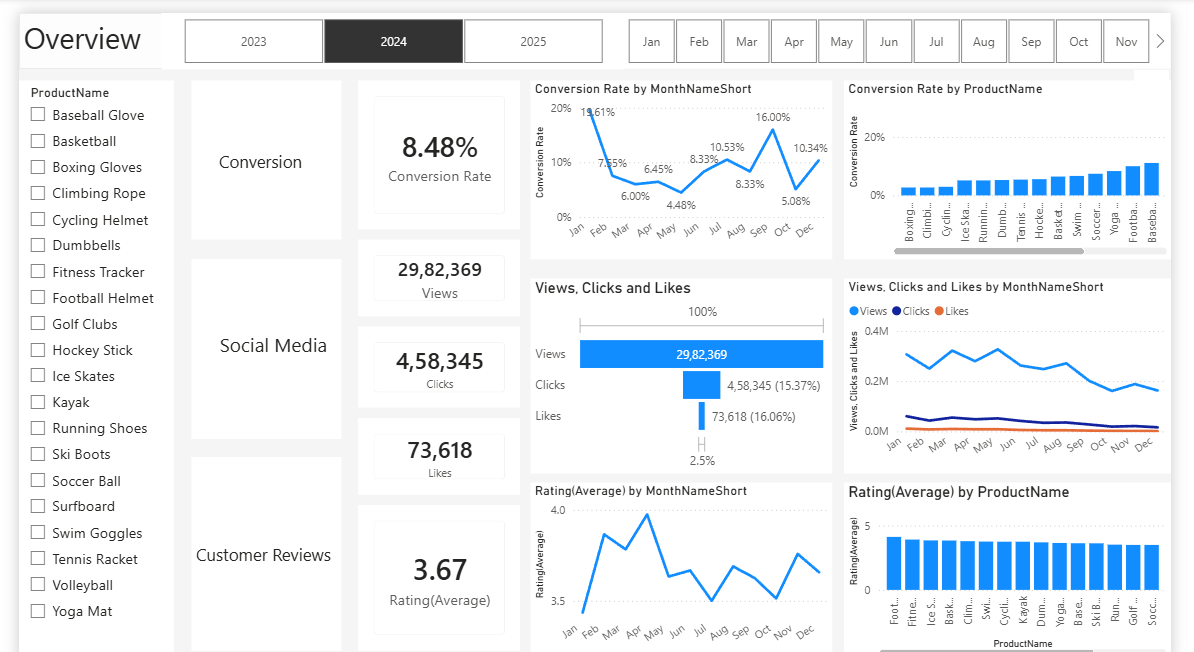

What the dashboard file says about the page in this screenshot:
{"tool":"powerbi","page":{"name":"Overview ","canvas":[1280,720],"ordinal":0},"visuals":[{"type":"textbox","box":[0,0,1280,61.7],"z":0},{"type":"slicer","fields":{"Values":["dim_products.ProductName"]},"box":[0,75,171.7,645],"z":1000},{"type":"textbox","box":[191.7,75,166.7,176.7],"z":2000},{"type":"textbox","box":[191.7,493.3,166.7,215],"z":3000},{"type":"textbox","box":[191.7,273.3,166.7,200],"z":4000},{"type":"cardVisual","fields":{"Data":["_calculations.Conversion Rate"]},"box":[376.7,75,180,165],"z":5000},{"type":"cardVisual","fields":{"Data":["_calculations.views"]},"box":[376.7,251.7,180,85],"z":6000},{"type":"cardVisual","fields":{"Data":["_calculations.clicks"]},"box":[376.7,348.3,180,90],"z":7000},{"type":"cardVisual","fields":{"Data":["_calculations.Likes"]},"box":[376.7,450,180,85],"z":8000},{"type":"cardVisual","fields":{"Data":["_calculations.Rating(average)"]},"box":[376.7,546.7,180,161.7],"z":9000},{"type":"slicer","fields":{"Values":["Calendar.Year"]},"box":[158.7,0,514,62.4],"z":10000},{"type":"slicer","fields":{"Values":["Calendar.MonthNameShort"]},"box":[652,0,628,62],"z":11000},{"type":"lineChart","fields":{"Y":["_calculations.Conversion Rate"],"Category":["Calendar.MonthNameShort"]},"box":[568.3,75,335,198.3],"z":12000},{"type":"clusteredColumnChart","fields":{"Category":["dim_products.ProductName"],"Y":["_calculations.Conversion Rate"]},"box":[916.7,75,363.3,198.3],"z":13000},{"type":"lineChart","fields":{"Category":["Calendar.MonthNameShort"],"Y":["_calculations.Views","_calculations.Clicks","_calculations.Likes"]},"box":[916.7,295,363.3,216.7],"z":14000},{"type":"funnel","fields":{"Y":["_calculations.Views","_calculations.Clicks","_calculations.Likes"]},"box":[568.3,295,335,216.7],"z":15000},{"type":"lineChart","fields":{"Category":["Calendar.MonthNameShort"],"Y":["_calculations.Rating"]},"box":[568.3,521.7,335,198.3],"z":16000},{"type":"clusteredColumnChart","fields":{"Category":["dim_products.ProductName"],"Y":["_calculations.Rating(Average)"]},"box":[917,522,363,198],"z":17000}]}

Visuals, with their boxes on the page's 1280x720 design canvas (x1, y1, x2, y2). These are canvas units, not pixel positions in the 1194x652 screenshot, which may show the page scaled, cropped or inside an application window:
textbox: pyautogui.locateOnScreen(0, 0, 1280, 62)
slicer - dim_products.ProductName: pyautogui.locateOnScreen(0, 75, 172, 720)
textbox: pyautogui.locateOnScreen(192, 75, 358, 252)
textbox: pyautogui.locateOnScreen(192, 493, 358, 708)
textbox: pyautogui.locateOnScreen(192, 273, 358, 473)
cardVisual - _calculations.Conversion Rate: pyautogui.locateOnScreen(377, 75, 557, 240)
cardVisual - _calculations.views: pyautogui.locateOnScreen(377, 252, 557, 337)
cardVisual - _calculations.clicks: pyautogui.locateOnScreen(377, 348, 557, 438)
cardVisual - _calculations.Likes: pyautogui.locateOnScreen(377, 450, 557, 535)
cardVisual - _calculations.Rating(average): pyautogui.locateOnScreen(377, 547, 557, 708)
slicer - Calendar.Year: pyautogui.locateOnScreen(159, 0, 673, 62)
slicer - Calendar.MonthNameShort: pyautogui.locateOnScreen(652, 0, 1280, 62)
lineChart - _calculations.Conversion Rate x Calendar.MonthNameShort: pyautogui.locateOnScreen(568, 75, 903, 273)
clusteredColumnChart - dim_products.ProductName x _calculations.Conversion Rate: pyautogui.locateOnScreen(917, 75, 1280, 273)
lineChart - Calendar.MonthNameShort x _calculations.Views: pyautogui.locateOnScreen(917, 295, 1280, 512)
funnel - _calculations.Views x _calculations.Clicks: pyautogui.locateOnScreen(568, 295, 903, 512)
lineChart - Calendar.MonthNameShort x _calculations.Rating: pyautogui.locateOnScreen(568, 522, 903, 720)
clusteredColumnChart - dim_products.ProductName x _calculations.Rating(Average): pyautogui.locateOnScreen(917, 522, 1280, 720)
